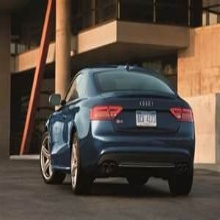no damage: (39, 65, 195, 197)
